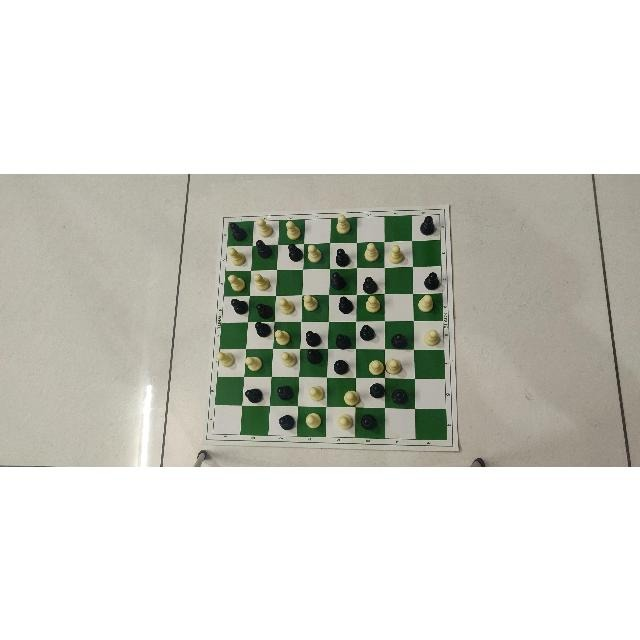black-pawn: (228, 221, 247, 241), (255, 238, 273, 258), (420, 215, 437, 235), (423, 270, 440, 290), (230, 297, 249, 314), (245, 387, 265, 403), (359, 323, 376, 341), (287, 241, 303, 260), (338, 294, 354, 313), (334, 331, 351, 348), (304, 329, 321, 346), (360, 412, 377, 429), (330, 271, 346, 289), (276, 384, 294, 400), (256, 302, 274, 318), (335, 246, 350, 265), (363, 275, 379, 292), (390, 331, 406, 348), (332, 358, 349, 374), (306, 348, 323, 364), (278, 414, 295, 430), (255, 321, 271, 337), (369, 381, 384, 398), (392, 387, 406, 405)
white-pawn: (253, 272, 271, 290), (228, 246, 246, 264), (388, 243, 404, 263), (228, 273, 246, 290), (256, 218, 273, 236), (215, 351, 235, 366), (278, 296, 295, 313), (423, 328, 440, 345), (418, 294, 434, 312), (307, 243, 322, 262), (285, 219, 300, 238), (335, 213, 350, 232), (364, 241, 379, 260), (365, 294, 381, 311), (273, 329, 290, 345), (280, 351, 297, 367), (244, 355, 262, 370), (309, 385, 325, 401), (305, 412, 321, 428), (337, 413, 353, 429), (344, 389, 360, 405), (303, 294, 318, 311), (385, 358, 402, 373), (368, 359, 383, 375)
